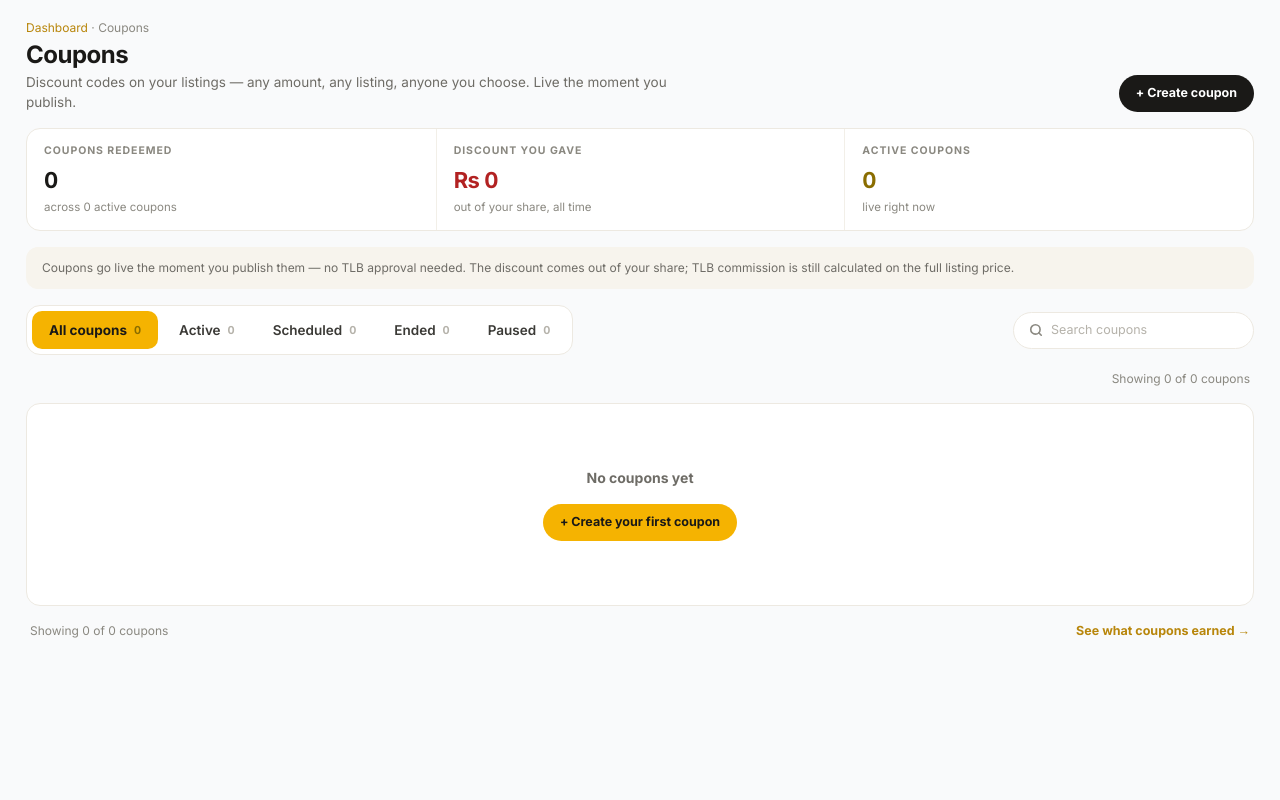
Test: Coupons — create flow › explains what each blank limit means, and refuses a 0 that would make the coupon unusable
Expected: the text "No coupons yet" is shown, [586,468,694,488]
Step 1. Click the button "+ Create coupon" → (1186, 94), box [1119,75,1254,112]
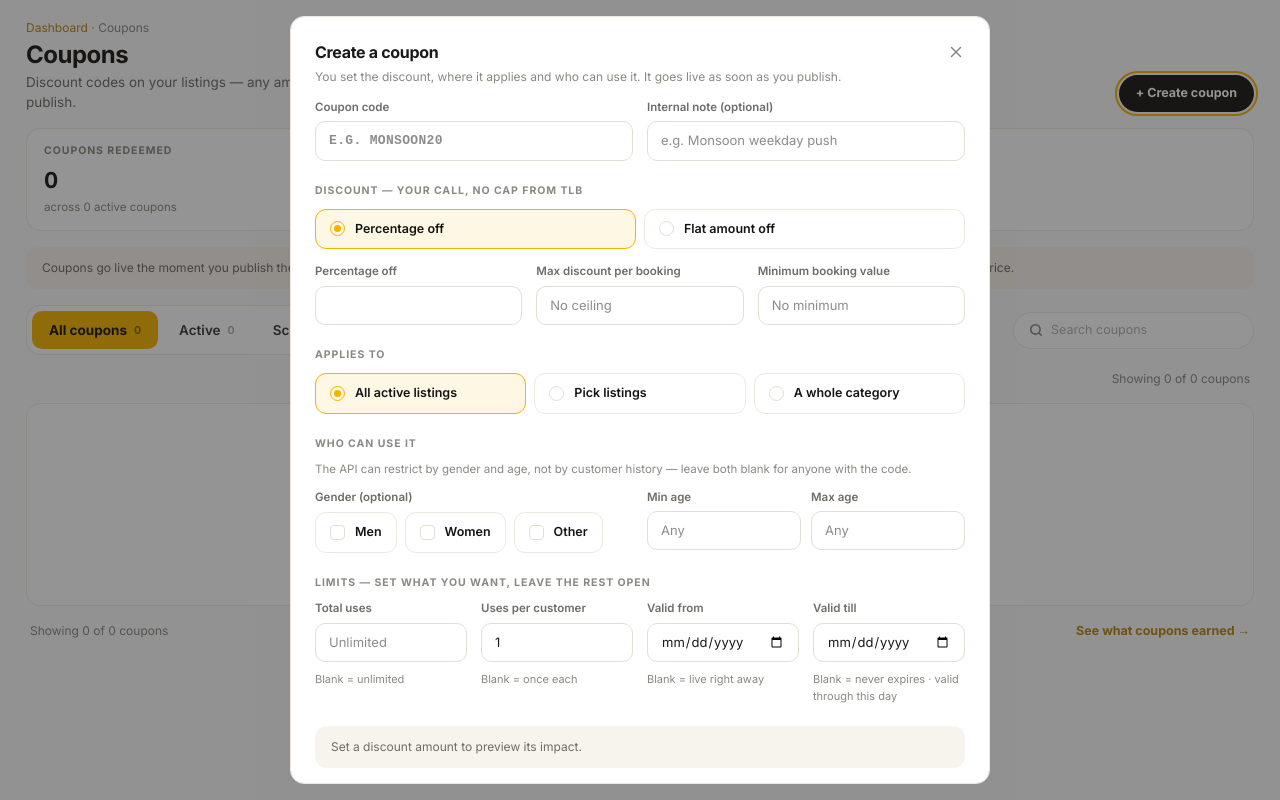
Now the heading "Create a coupon" is shown, box [315,42,438,62]
Now the text "Blank = unlimited" is shown, box [315,672,404,686]
Now the text "Blank = once each" is shown, box [481,672,577,686]
Step 2. Type "ZERO" into the field with placeholder "e.g. MONSOON20" → (474, 141), box [315,121,633,161]
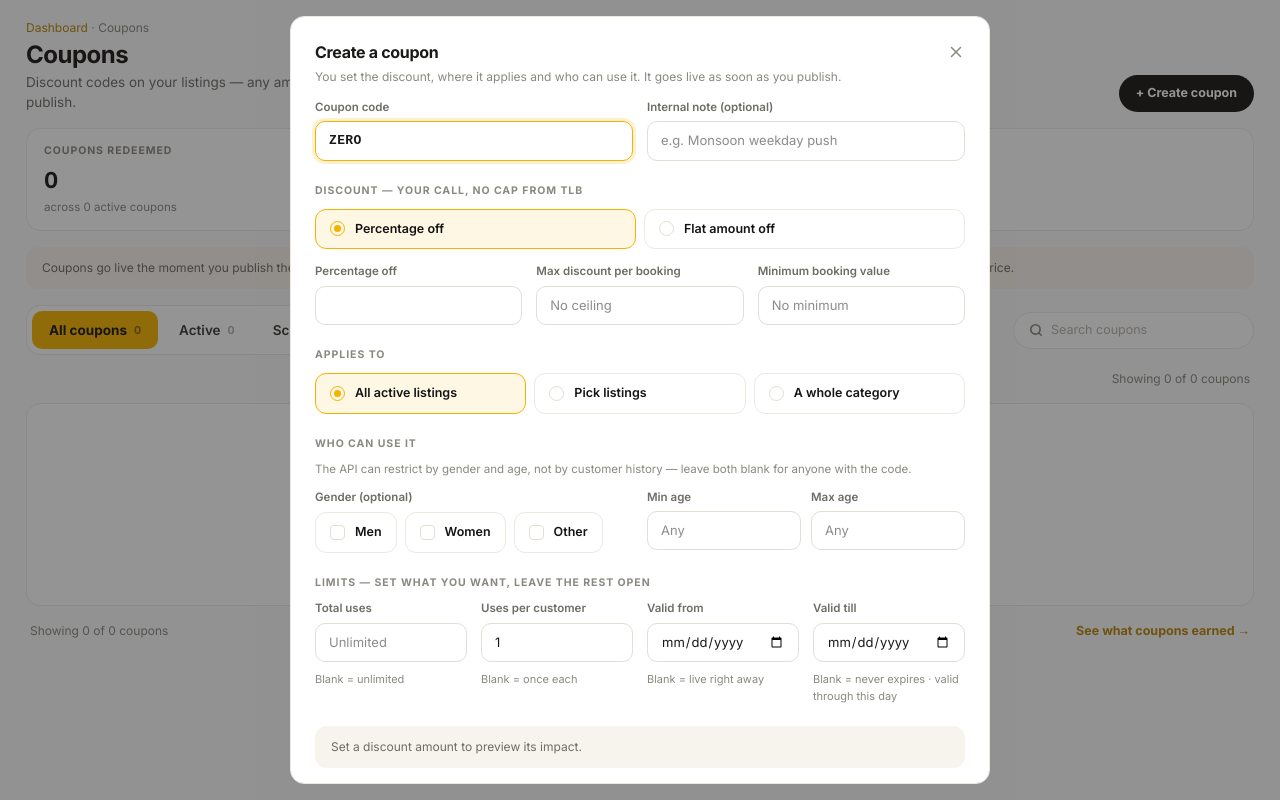
Step 3. Type "30" into the number field below "Max discount per booking" → (419, 305), box [315,286,522,325]
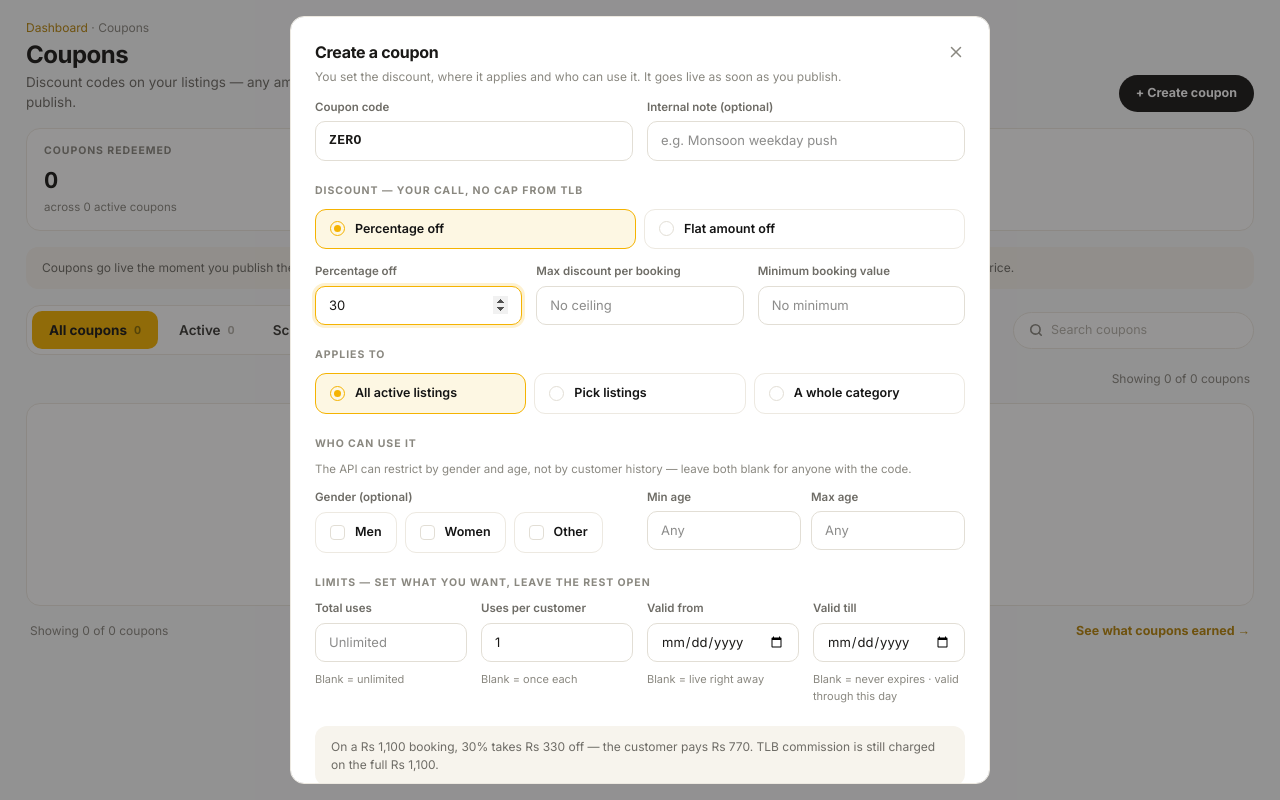
Step 4. Type "0" into the number field with placeholder "Unlimited" → (391, 642), box [315,622,467,662]
(page scrolled)
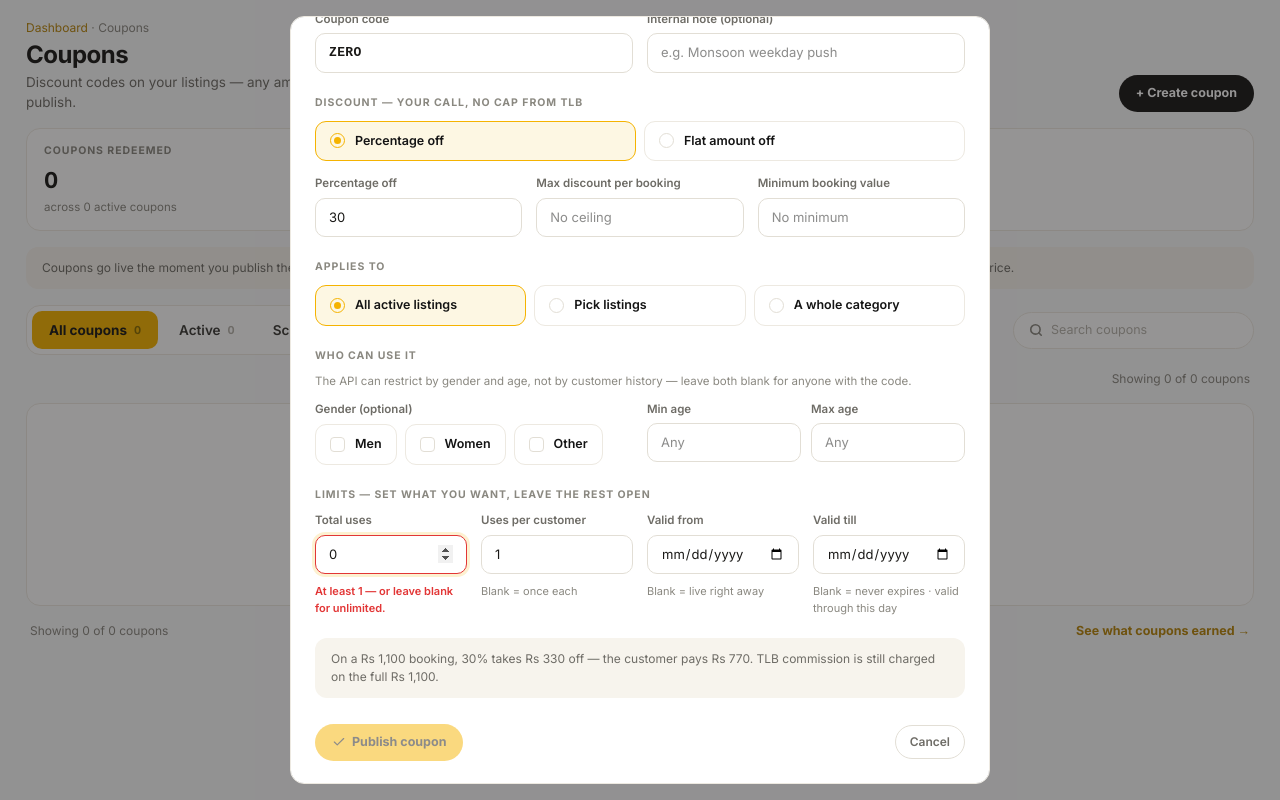
Now the text "At least 1 — or leave blank for unlimited." is shown, box [315,583,467,616]
Now the button "Publish coupon" is disabled, box [315,724,463,761]
